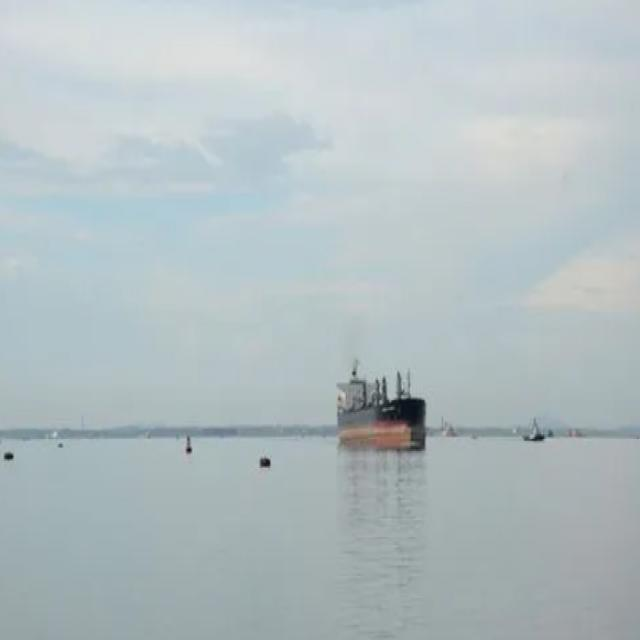cargoship: (335, 357, 429, 456), (522, 412, 545, 441)
